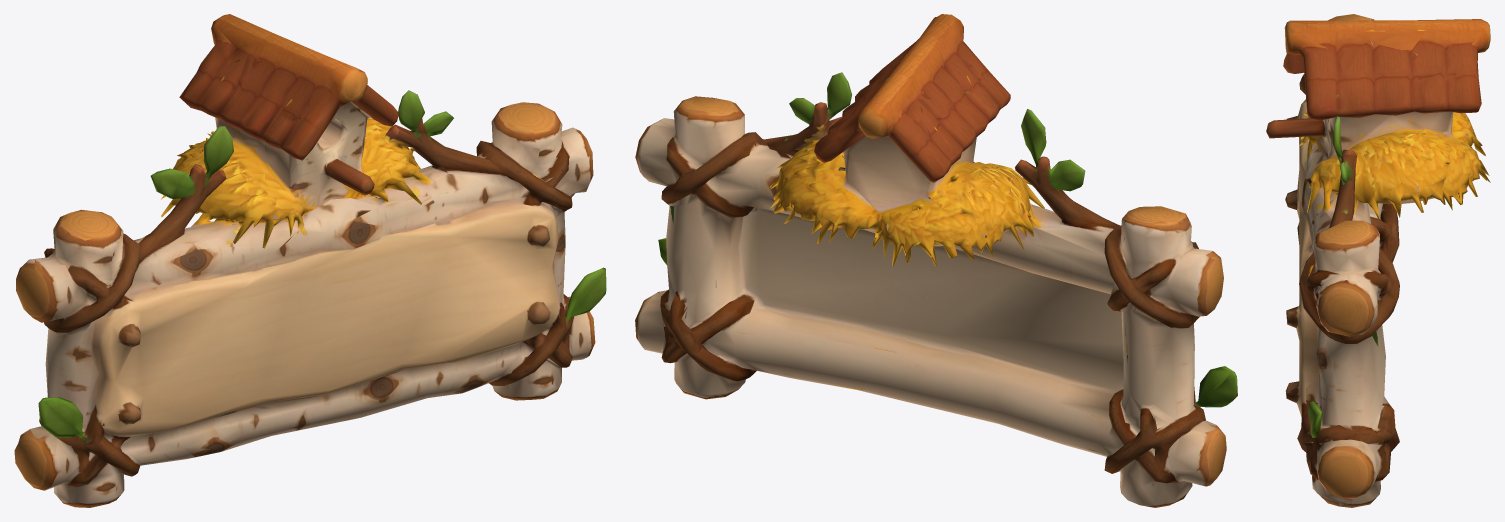
The picture shows the model from 3 angles, left to right: view 1: azimuth 30°, elevation 25°; view 2: azimuth 150°, elevation 25°; view 3: azimuth 270°, elevation 25°; orthographic projection. The views are drawn at different scales.
Visible parts, largest first — view 1: plate-birch; view 2: plate-birch; view 3: plate-birch.
Boxes of the visible parts, <box> form: plate-birch: <box>14,14,606,507</box>; plate-birch: <box>635,14,1237,507</box>; plate-birch: <box>1266,14,1490,507</box>.
Size of the model in its own units: 1.2 by 0.7994 by 0.4271.
Materials: 1 (1 with a texture image).
